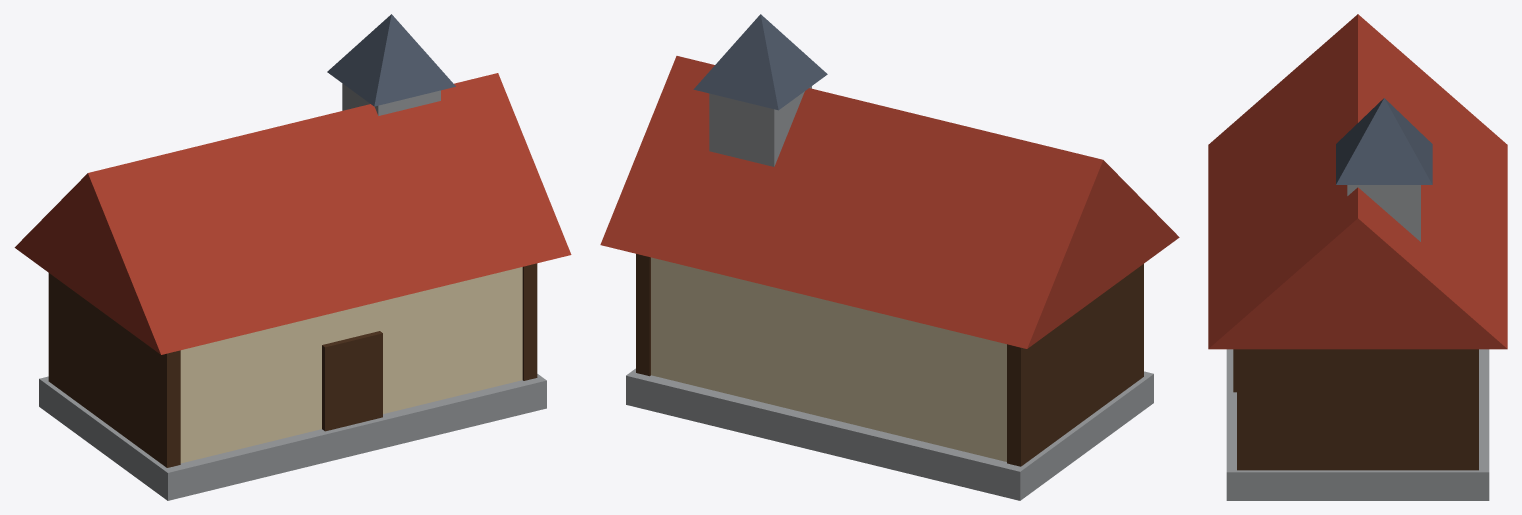
Rendered from hall.fbx.
3 views of the same model, side by side, from view 1: azimuth 30°, elevation 25°; view 2: azimuth 150°, elevation 25°; view 3: azimuth 270°, elevation 25° (orthographic). The views are drawn at different scales.
Parts seen in each view (by area): view 1: hall; view 2: hall; view 3: hall.
Part boxes in pixels (left/top/right/bottom): hall: left=14, top=14, right=571, bottom=500; hall: left=600, top=14, right=1179, bottom=500; hall: left=1208, top=14, right=1507, bottom=500.
Bounding box in the file's own units: 1.84 × 1.53 × 1.14.
